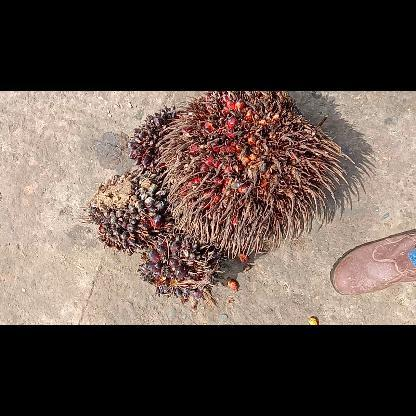TBS abnormal: (84, 169, 172, 257), (134, 233, 224, 311), (128, 106, 184, 170)
Terlalu masak: (152, 92, 358, 262)
